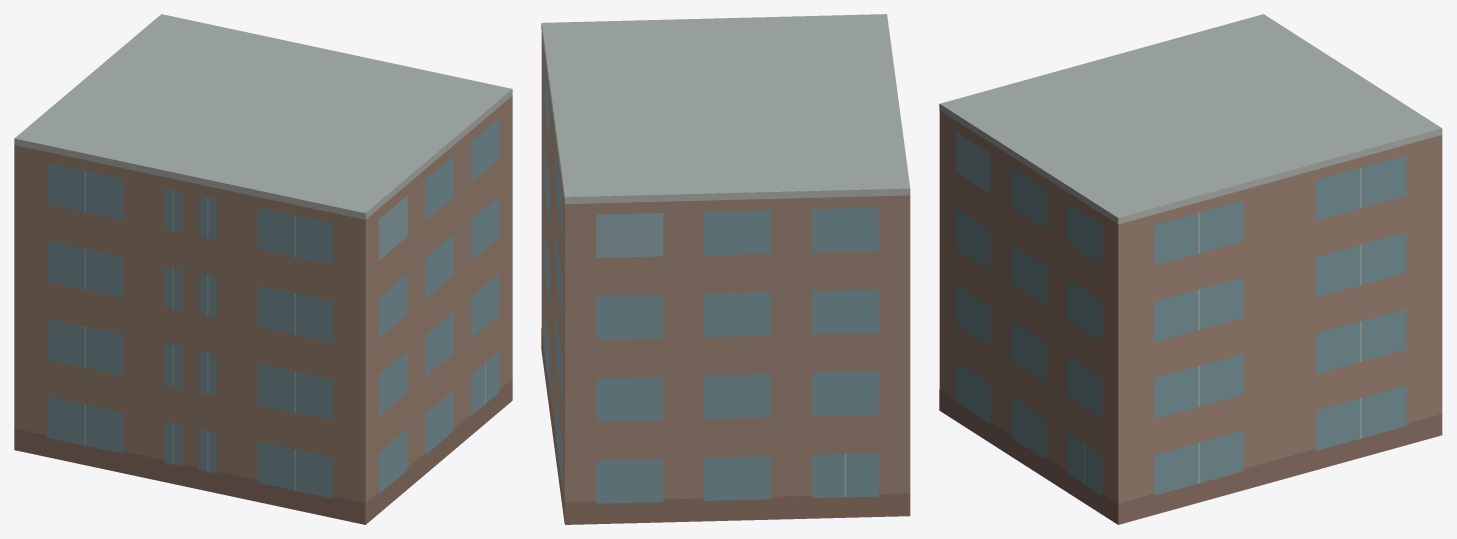
File: survey-upis-33020516.glb
3 renders of one model, left to right at view 1: azimuth 30°, elevation 25°; view 2: azimuth 150°, elevation 25°; view 3: azimuth 270°, elevation 25°, orthographic. The views are drawn at different scales.
Visible parts, largest first — view 1: survey-upis-33020516.tmp; view 2: survey-upis-33020516.tmp; view 3: survey-upis-33020516.tmp.
Boxes of the visible parts, <box> form: survey-upis-33020516.tmp: <box>14,14,512,524</box>; survey-upis-33020516.tmp: <box>541,14,910,524</box>; survey-upis-33020516.tmp: <box>939,14,1442,524</box>.
Bounding box in the file's own units: 16.55 × 11.6 × 17.23.
